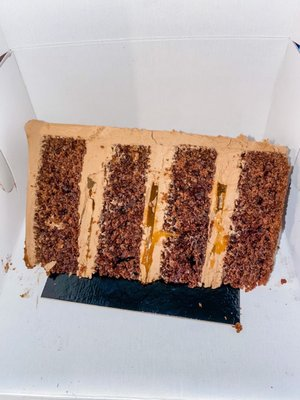sushi: (16, 121, 294, 322)
